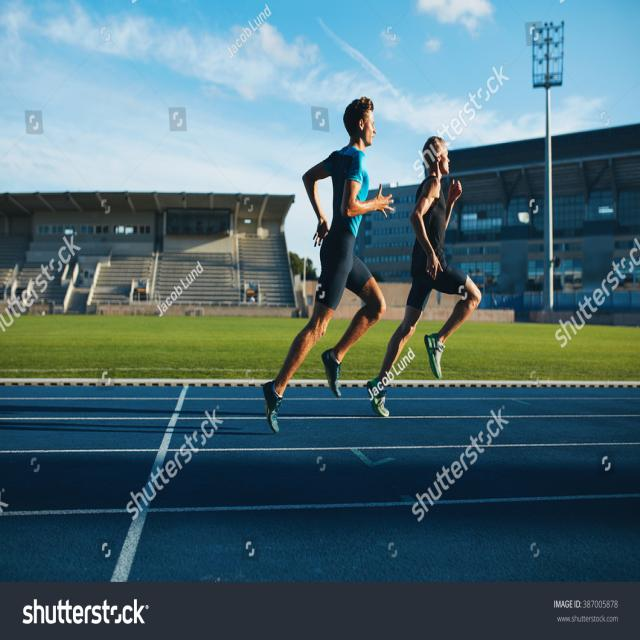running: (262, 96, 396, 433), (393, 134, 484, 382)
